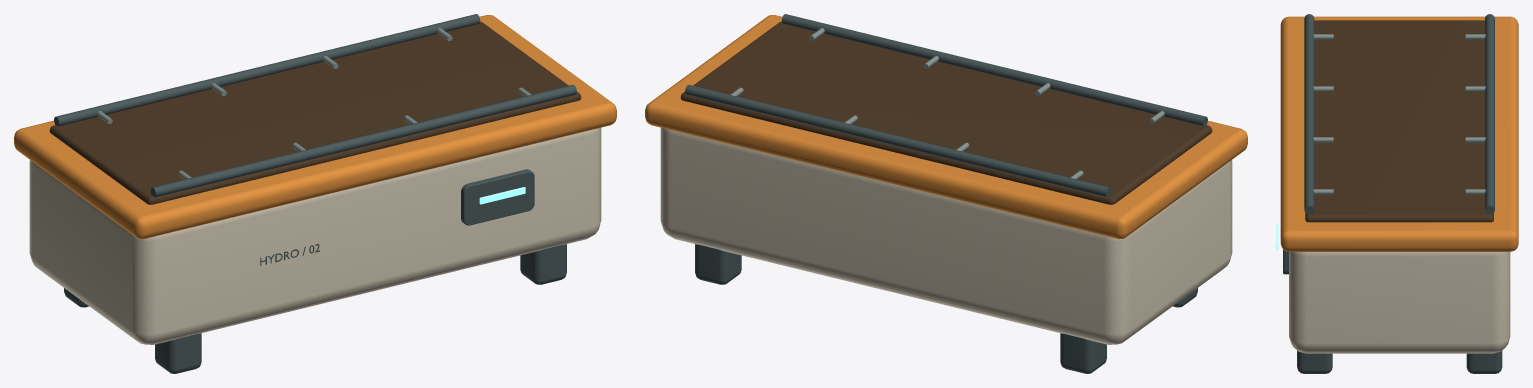
The model's file is growing-bed-2m.glb.
The picture shows the model from 3 angles, left to right: view 1: azimuth 30°, elevation 25°; view 2: azimuth 150°, elevation 25°; view 3: azimuth 270°, elevation 25°; orthographic projection. The views are drawn at different scales.
Visible parts, largest first — view 1: growing-bed-2m / 01 • warm porcelain paint, growing-bed-2m / 17 • growing soil, growing-bed-2m / 03 • ochre enamel, growing-bed-2m / 06 • dark anodized frame, growing-bed-2m / 05 • brushed titanium; view 2: growing-bed-2m / 01 • warm porcelain paint, growing-bed-2m / 17 • growing soil, growing-bed-2m / 03 • ochre enamel, growing-bed-2m / 06 • dark anodized frame, growing-bed-2m / 05 • brushed titanium; view 3: growing-bed-2m / 17 • growing soil, growing-bed-2m / 01 • warm porcelain paint, growing-bed-2m / 03 • ochre enamel, growing-bed-2m / 06 • dark anodized frame, growing-bed-2m / 05 • brushed titanium.
Boxes of the visible parts, <box> form: growing-bed-2m / 01 • warm porcelain paint: <box>29,127,601,344</box>; growing-bed-2m / 17 • growing soil: <box>49,22,581,204</box>; growing-bed-2m / 03 • ochre enamel: <box>14,15,616,239</box>; growing-bed-2m / 06 • dark anodized frame: <box>54,14,576,373</box>; growing-bed-2m / 05 • brushed titanium: <box>97,28,531,179</box>; growing-bed-2m / 01 • warm porcelain paint: <box>660,127,1232,344</box>; growing-bed-2m / 17 • growing soil: <box>680,22,1212,204</box>; growing-bed-2m / 03 • ochre enamel: <box>645,15,1247,239</box>; growing-bed-2m / 06 • dark anodized frame: <box>685,14,1207,373</box>; growing-bed-2m / 05 • brushed titanium: <box>730,28,1164,179</box>; growing-bed-2m / 17 • growing soil: <box>1305,20,1493,222</box>; growing-bed-2m / 01 • warm porcelain paint: <box>1289,252,1510,353</box>; growing-bed-2m / 03 • ochre enamel: <box>1280,16,1518,251</box>; growing-bed-2m / 06 • dark anodized frame: <box>1283,14,1502,373</box>; growing-bed-2m / 05 • brushed titanium: <box>1313,34,1485,194</box>.
Bounding box in the file's own units: 1.9 × 0.708 × 0.886.
